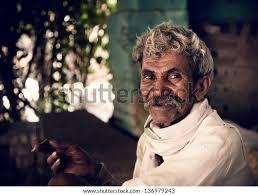Human: (106, 23, 244, 191)
